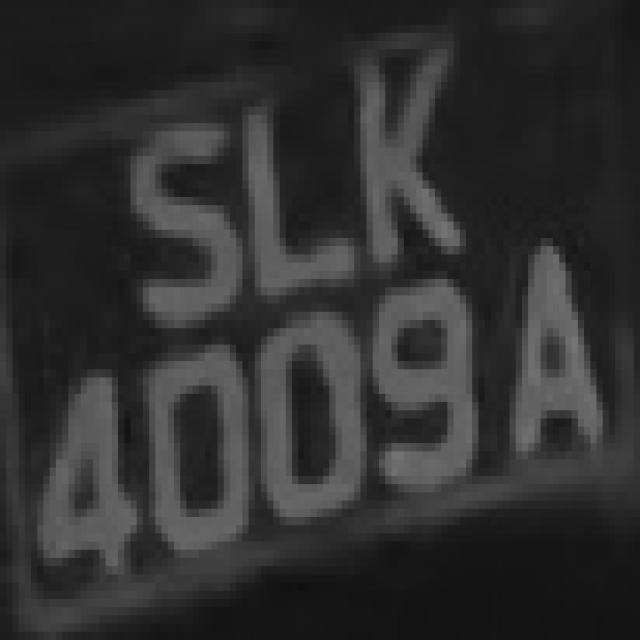0: (124, 328, 249, 574), (261, 304, 367, 550)
4: (6, 345, 143, 599)
9: (354, 279, 479, 517)
A: (497, 213, 615, 484)
K: (336, 41, 454, 263)
L: (218, 58, 354, 304)
S: (130, 98, 230, 353)
